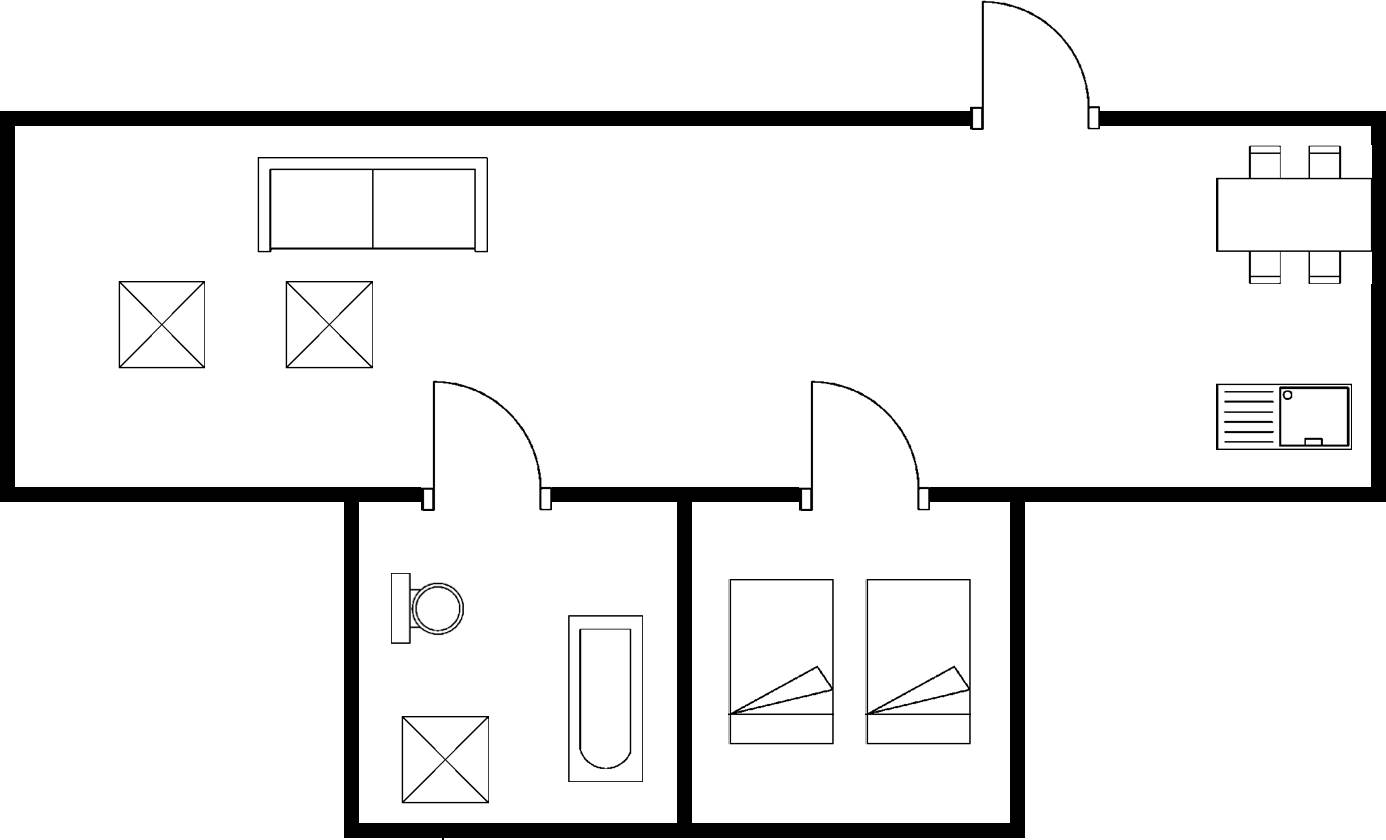bed: (721, 571, 841, 751), (861, 573, 975, 750)
coffee_table: (280, 274, 380, 374), (113, 276, 212, 375), (397, 712, 497, 810)
dining_table: (1208, 137, 1376, 292)
large_sink: (387, 568, 469, 650)
large_sofa: (250, 153, 496, 257)
sink: (1210, 376, 1356, 458)
tub: (560, 609, 648, 786)
